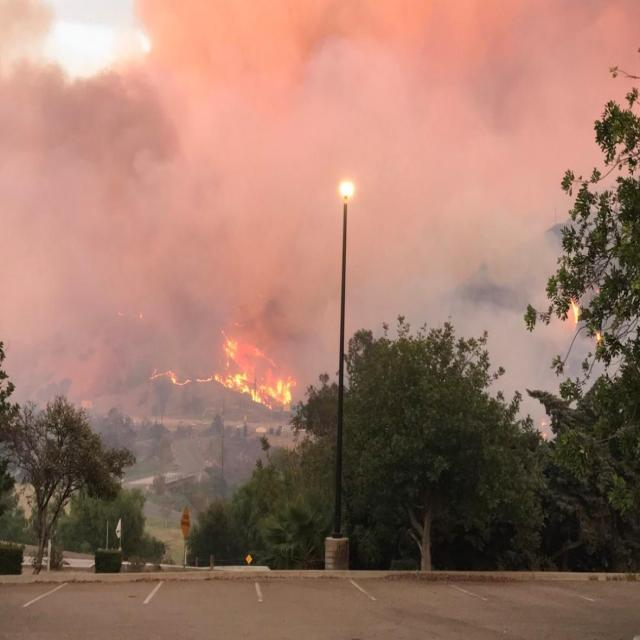Fire: (215, 320, 302, 425)
Smoke: (0, 0, 631, 428)
